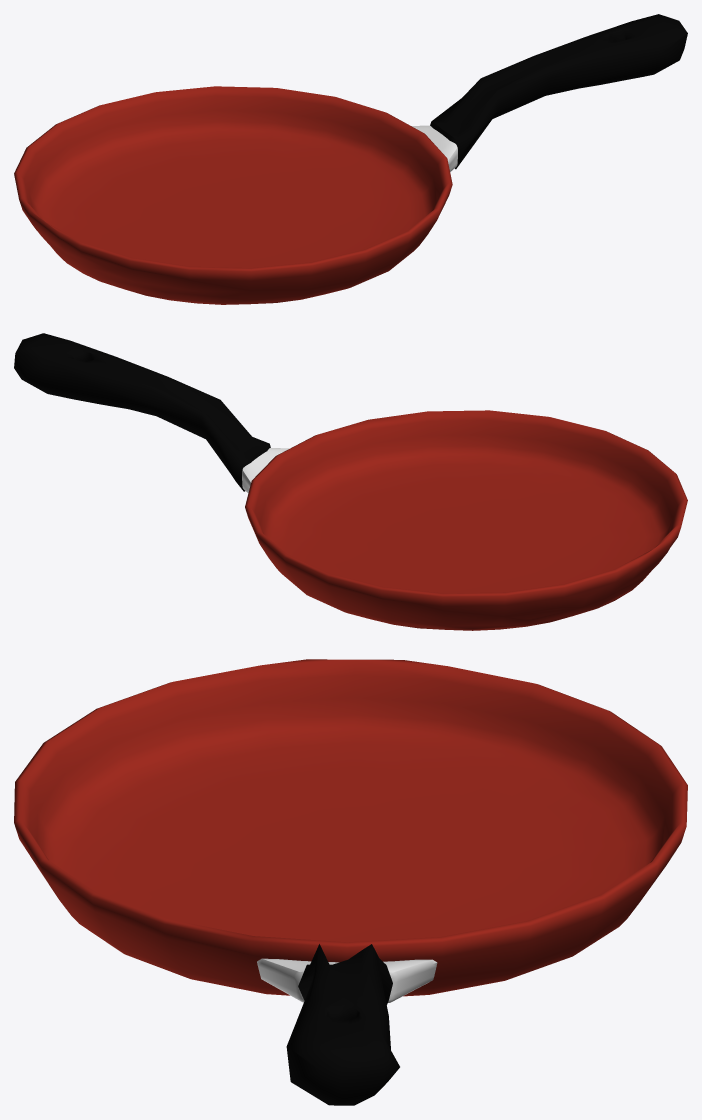
The model's file is frying pan.fbx.
3 views of the same model, one above another, from view 1: azimuth 30°, elevation 25°; view 2: azimuth 150°, elevation 25°; view 3: azimuth 270°, elevation 25° (orthographic). The views are drawn at different scales.
Parts seen in each view (by area): view 1: pan, handle, handle extension; view 2: pan, handle, handle extension; view 3: pan, handle, handle extension.
Boxes of the visible parts, x1,y1,x2,y2 form: pan: (14,86,452,304); handle: (430,14,687,169); handle extension: (411,125,457,171); pan: (245,410,687,630); handle: (14,333,270,491); handle extension: (242,448,289,493); pan: (14,659,687,996); handle: (286,944,399,1105); handle extension: (257,958,437,1002).
Bounding box in the file's own units: 53.19 × 8.08 × 31.67.
